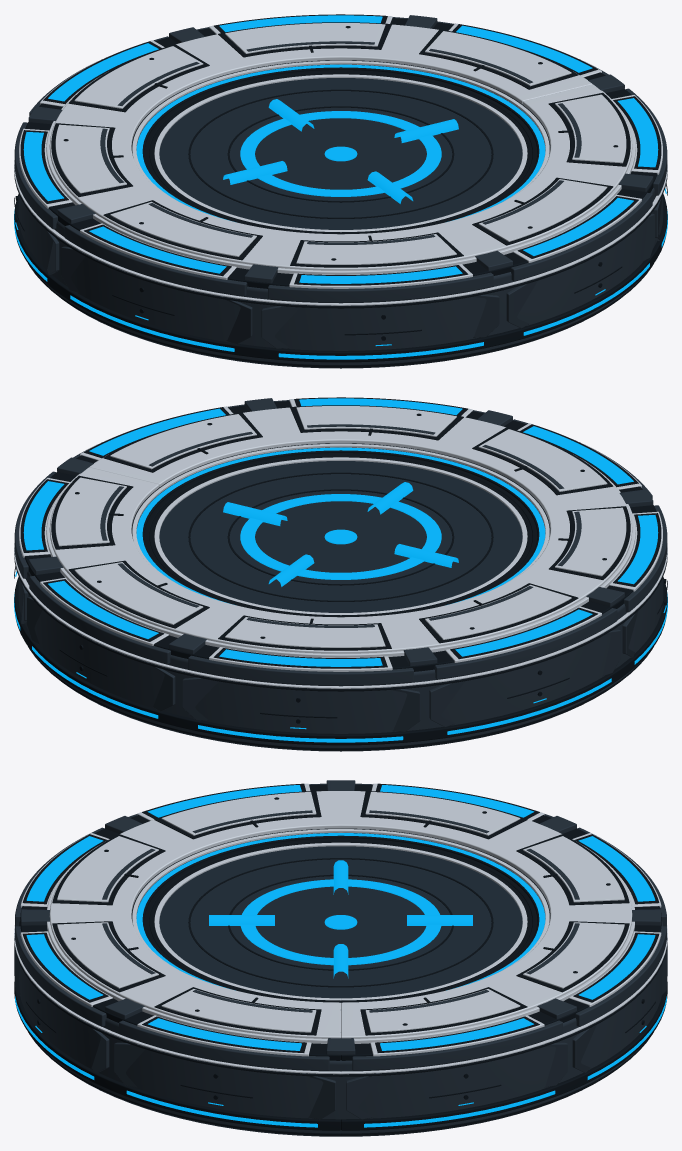
Rendered from Striker.glb.
3 views of the same model, one above another, from view 1: azimuth 30°, elevation 25°; view 2: azimuth 150°, elevation 25°; view 3: azimuth 270°, elevation 25° (orthographic).
Parts seen in each view (by area): view 1: SM_Puck_Striker; view 2: SM_Puck_Striker; view 3: SM_Puck_Striker.
Boxes of the visible parts, x1=… form: SM_Puck_Striker: x1=14, y1=14, x2=667, y2=368; SM_Puck_Striker: x1=14, y1=397, x2=667, y2=751; SM_Puck_Striker: x1=14, y1=780, x2=667, y2=1136.
Size of the model in its own units: 0.8272 by 0.1339 by 0.8272.
